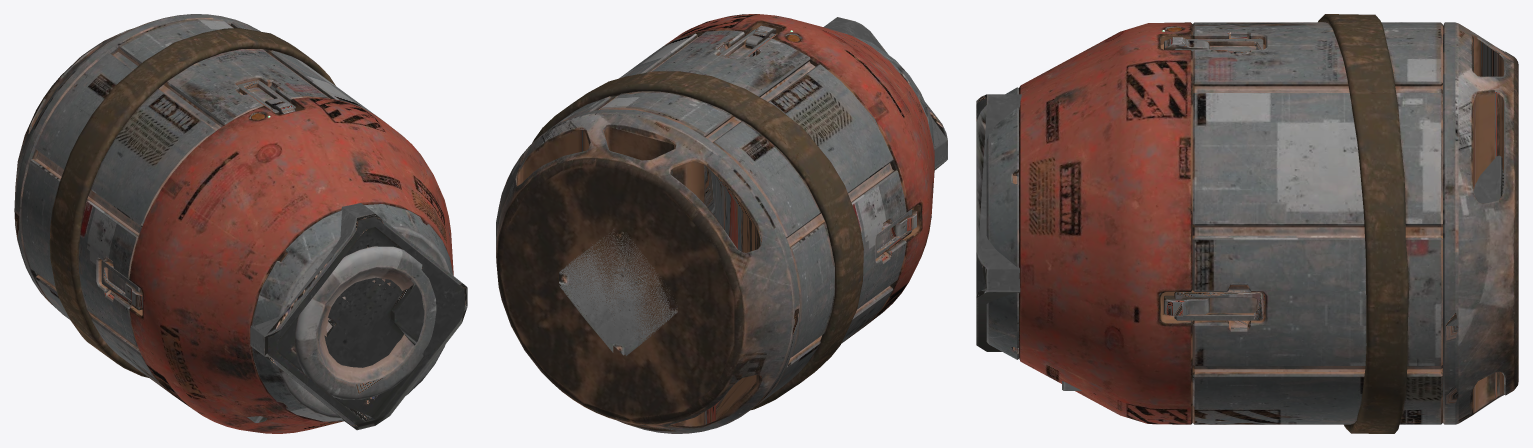
The model's file is cargo-kit.glb.
The picture shows the model from 3 angles, left to right: view 1: azimuth 30°, elevation 25°; view 2: azimuth 150°, elevation 25°; view 3: azimuth 270°, elevation 25°; orthographic projection. The views are drawn at different scales.
Parts seen in each view (by area): view 1: crate27-lod0, crate.001_low_crate_0 (×2); view 2: crate27-lod0, crate.001_low_crate_0 (×2); view 3: crate27-lod0, crate.001_low_crate_0 (×2).
Part boxes in pixels (x1,y1,x2,y2): crate27-lod0: [14, 14, 453, 433]; crate.001_low_crate_0 (×2): [247, 203, 467, 430]; crate27-lod0: [496, 14, 934, 433]; crate.001_low_crate_0 (×2): [559, 17, 947, 355]; crate27-lod0: [976, 14, 1518, 433]; crate.001_low_crate_0 (×2): [976, 94, 1503, 390].
Size of what is drawn, in the model's own units: 0.773 by 0.7749 by 1.
Materials: 3 (2 with a texture image).
